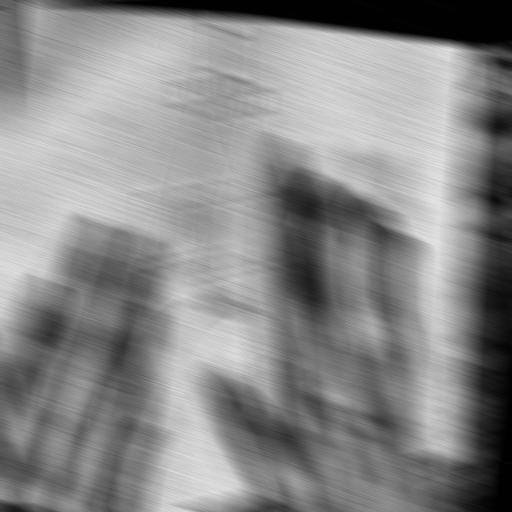bottom_left: (439, 445, 463, 466)
eiffel-tower: (38, 3, 387, 464)
